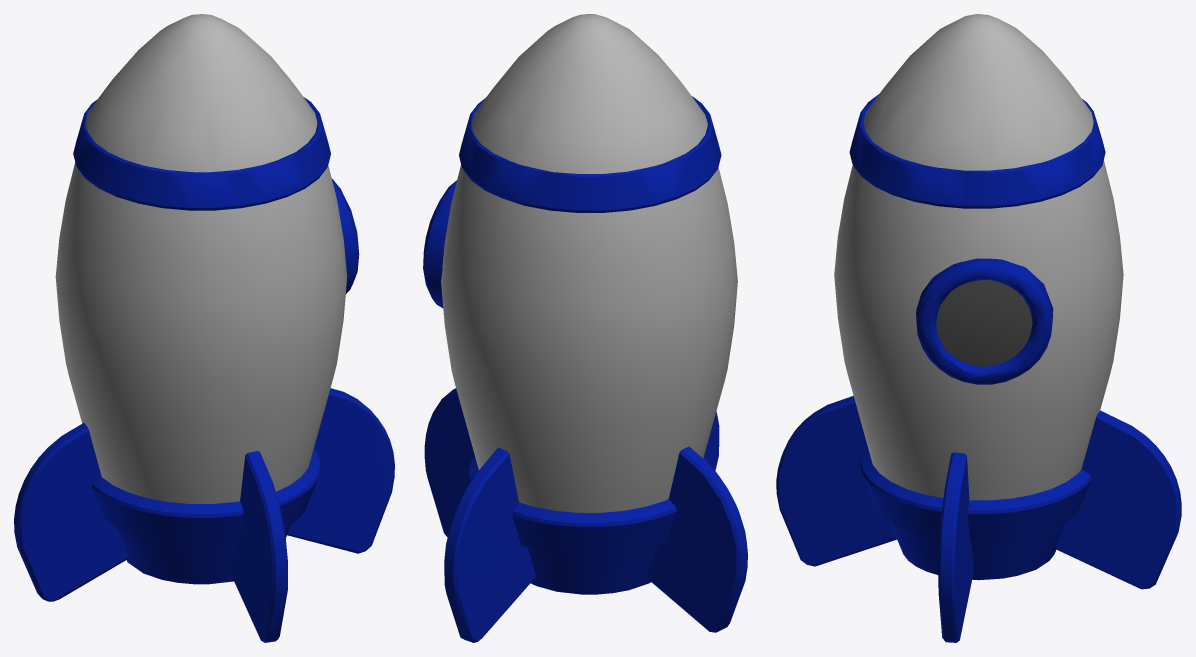
File: ROKET.fbx
3 views of the same model, side by side, from view 1: azimuth 30°, elevation 25°; view 2: azimuth 150°, elevation 25°; view 3: azimuth 270°, elevation 25° (orthographic). The views are drawn at different scales.
Visible parts, largest first — view 1: ROKET; view 2: ROKET; view 3: ROKET.
Part boxes in pixels (box(x1,y1,x2,y2)): ROKET: box(14, 14, 394, 642); ROKET: box(423, 14, 747, 642); ROKET: box(776, 14, 1181, 642).
Bounding box in the file's own units: 278 × 429 × 284.
